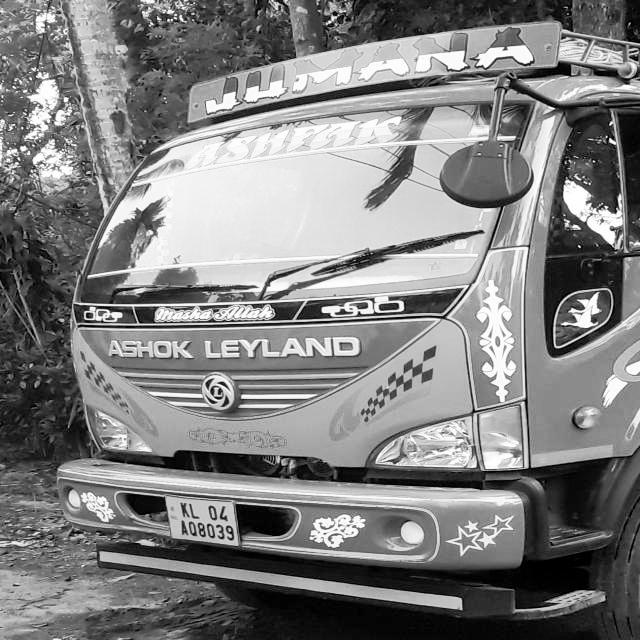HCV: (53, 98, 640, 605)
